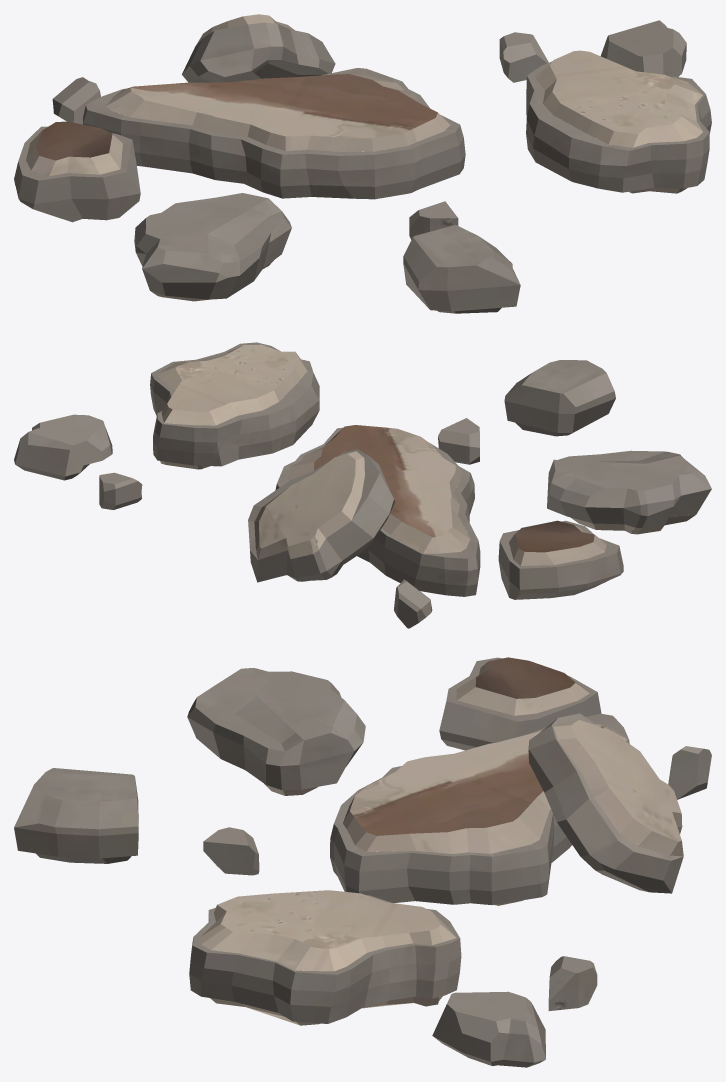
3 views of the same model, one above another, from view 1: azimuth 30°, elevation 25°; view 2: azimuth 150°, elevation 25°; view 3: azimuth 270°, elevation 25° (orthographic). The views are drawn at different scales.
Visible parts, largest first — view 1: body0_model0_lod0_mesh1, body0_model0_lod0_mesh0; view 2: body0_model0_lod0_mesh1, body0_model0_lod0_mesh0; view 3: body0_model0_lod0_mesh1, body0_model0_lod0_mesh0.
Boxes of the visible parts, x1,y1,x2,y2 form: body0_model0_lod0_mesh1: (14,20,711,313); body0_model0_lod0_mesh0: (26,14,702,301); body0_model0_lod0_mesh1: (14,342,711,628); body0_model0_lod0_mesh0: (158,344,695,565); body0_model0_lod0_mesh1: (14,657,711,1067); body0_model0_lod0_mesh0: (200,657,683,1025).
Size of the model in its own units: 146 by 26.2 by 120.
Materials: 2 (2 with a texture image).
